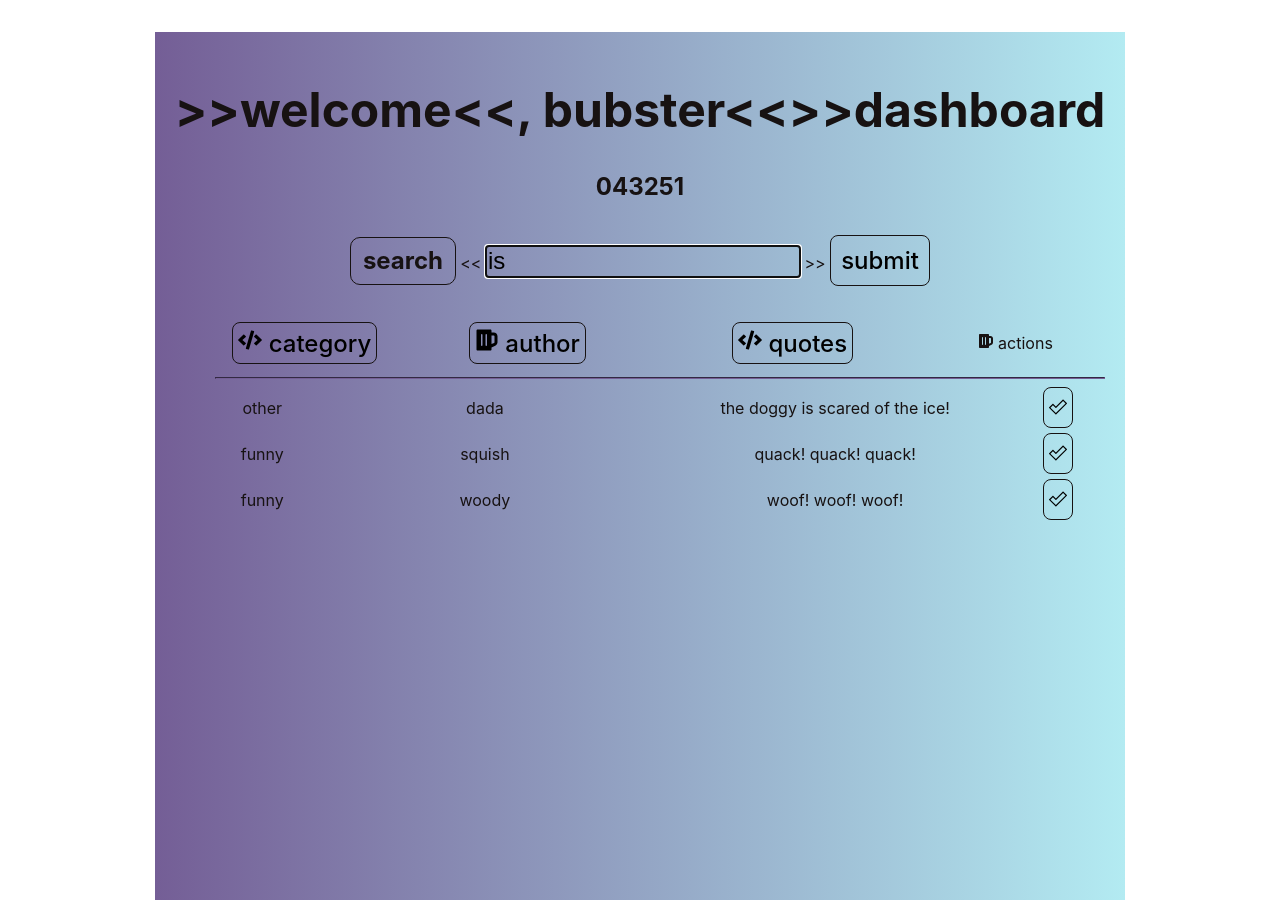
App › searches for specific quotes
The width and height of the screenshot is (1280, 900).
expect the field showing "wheels" is not shown: met
expect the text "other" is shown: met, box [242,398,282,418]
# user interacts
Replace the text in the field showing "is" with "wheels" at (643, 262), box [486,246,800,277]
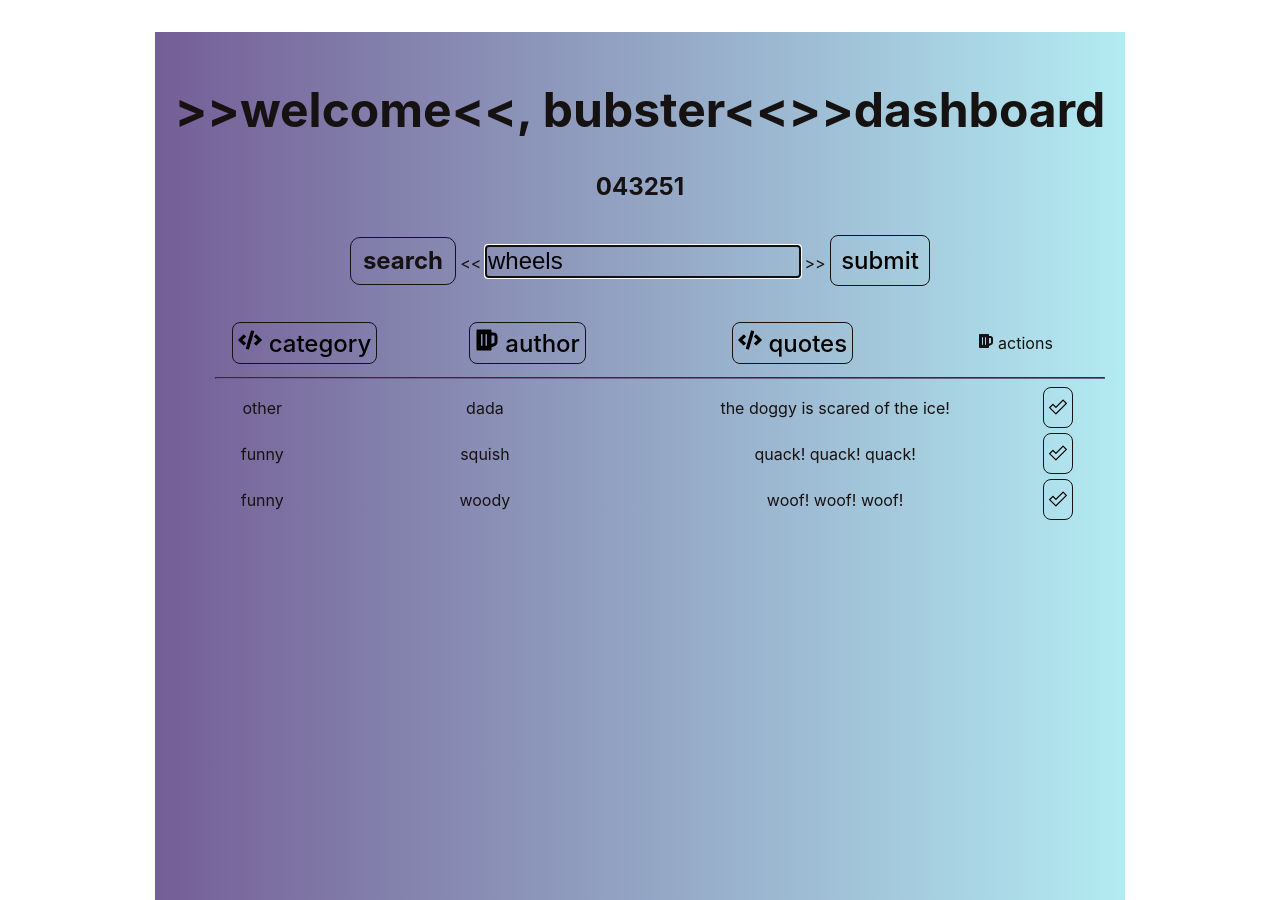
Submit the form from the button "submit", box [830,235,930,286]
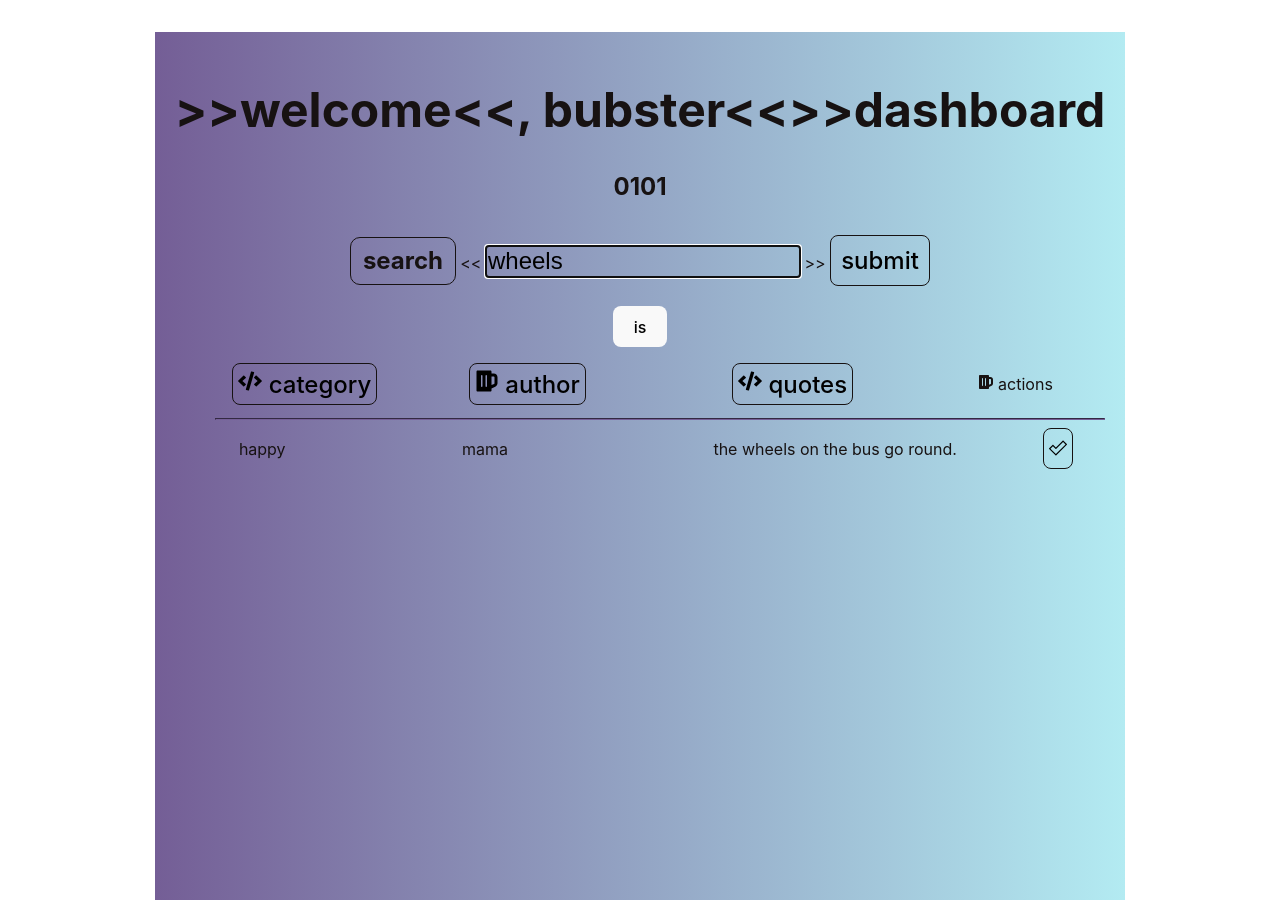
expect the text "other" is gone: met
expect the text "happy" is shown: met, box [239,439,286,459]
